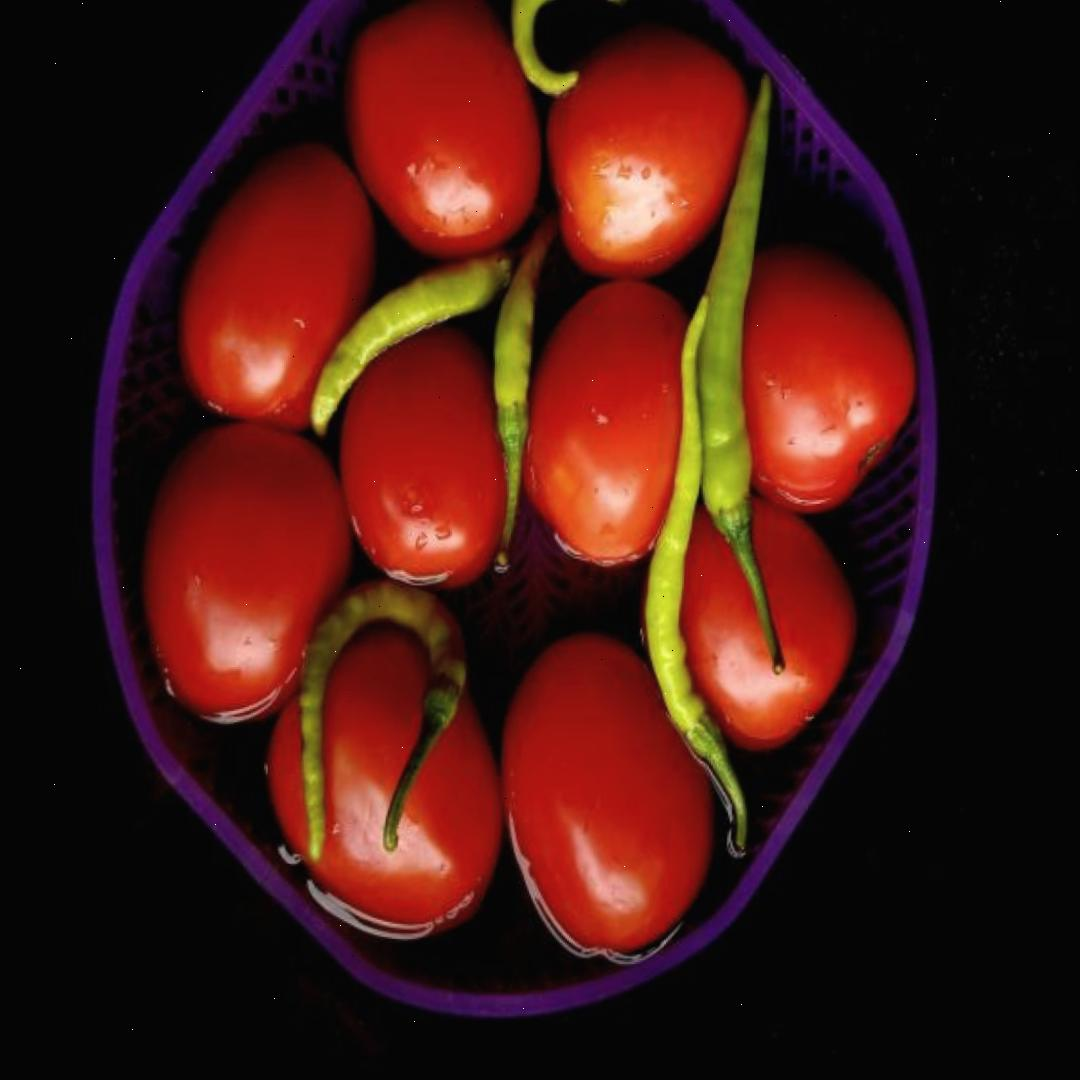matang: (260, 615, 512, 933), (498, 629, 724, 953), (133, 416, 358, 724), (685, 241, 922, 515), (177, 138, 382, 435), (637, 487, 863, 754), (335, 0, 548, 265), (544, 23, 749, 283), (519, 278, 702, 568), (334, 314, 516, 590)
